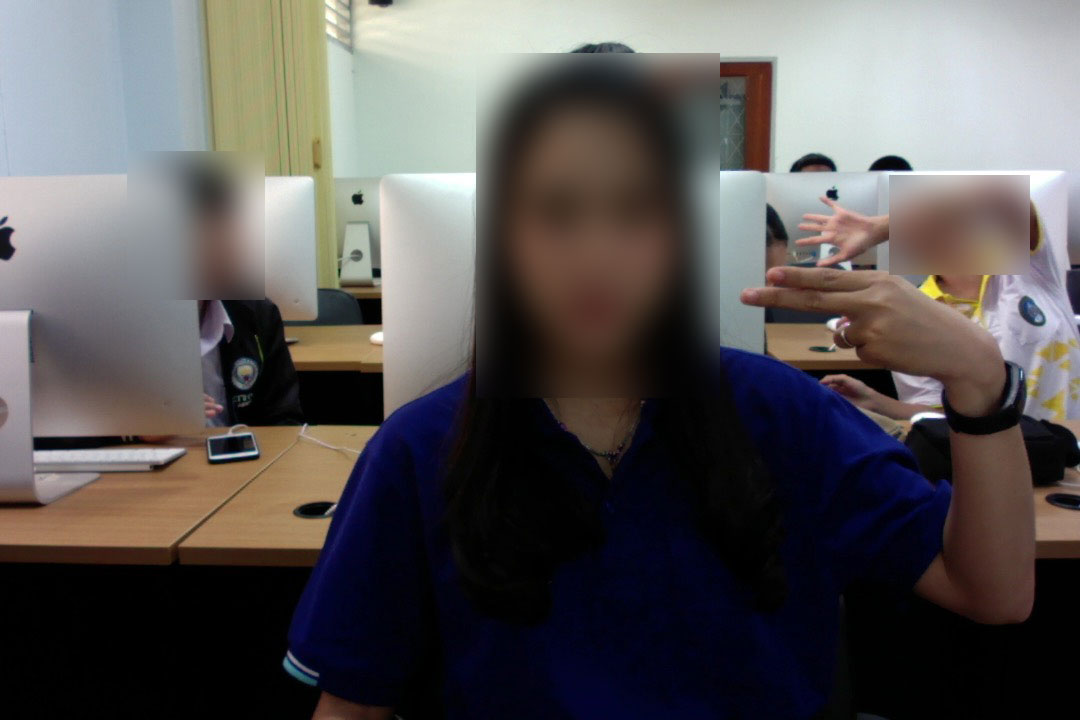hor: (736, 263, 1015, 397)
